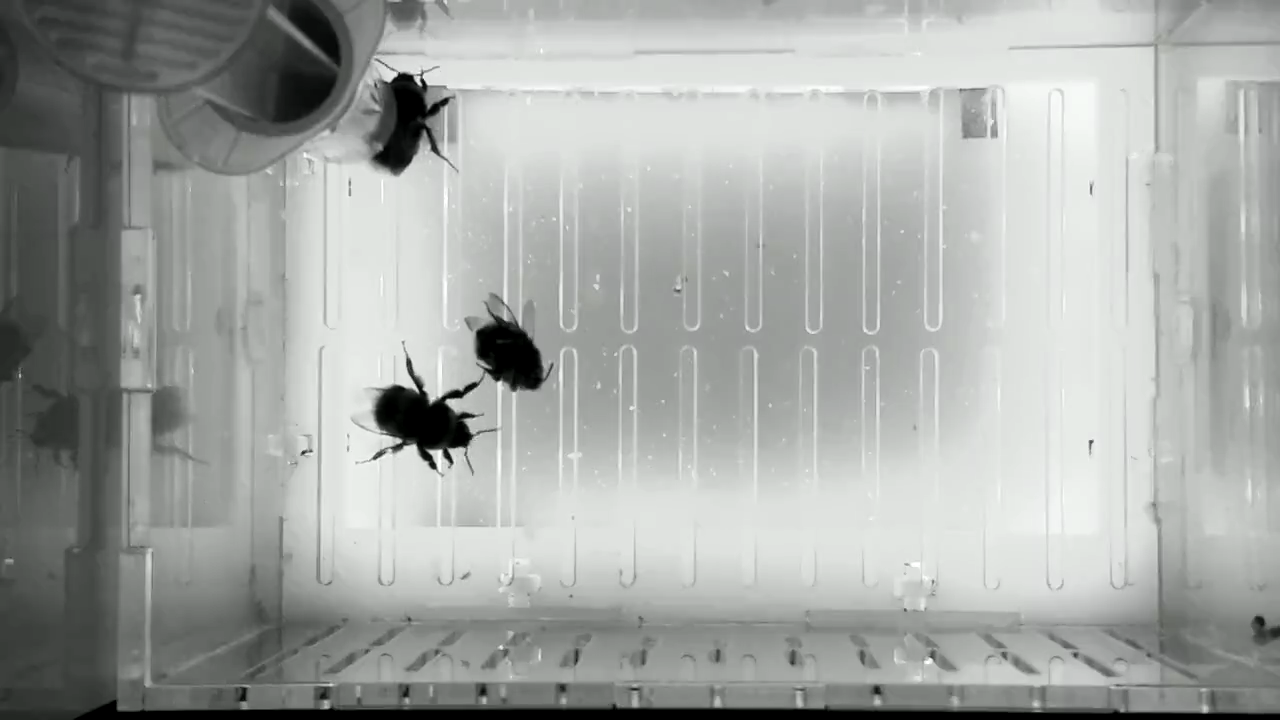bee_alive: (343, 337, 504, 481), (363, 54, 465, 179)
bee_dead: (462, 290, 556, 392)
feeder: (301, 53, 401, 169)
